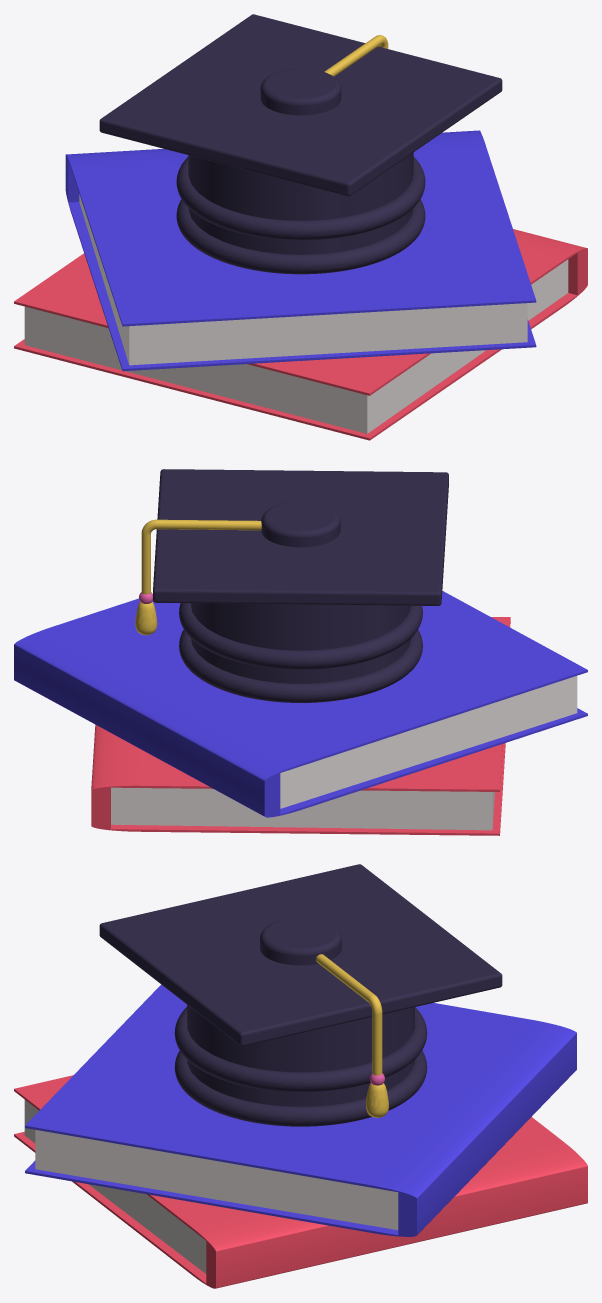
The model's file is graduation_hat.3c669d375f.glb.
3 renders of one model, top to bottom at view 1: azimuth 30°, elevation 25°; view 2: azimuth 150°, elevation 25°; view 3: azimuth 270°, elevation 25°, orthographic. The views are drawn at different scales.
Visible parts, largest first — view 1: Cube_book_0; view 2: Cube_book_0; view 3: Cube_book_0.
Boxes of the visible parts, x1,y1,x2,y2 form: Cube_book_0: [14, 14, 587, 440]; Cube_book_0: [14, 469, 587, 835]; Cube_book_0: [14, 864, 587, 1288].
Bounding box in the file's own units: 2.71 × 1.25 × 2.71.
1 material, 1 textured.
